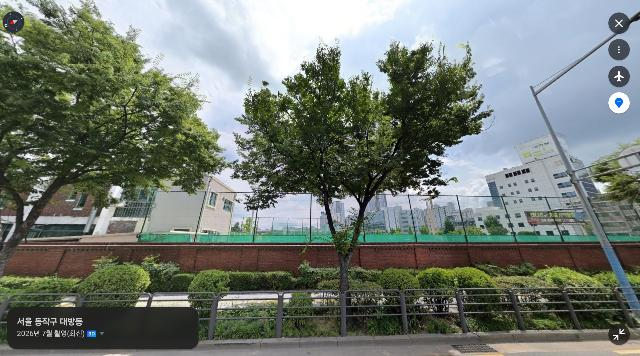other: (227, 34, 497, 314), (0, 0, 230, 280), (588, 138, 640, 224)
